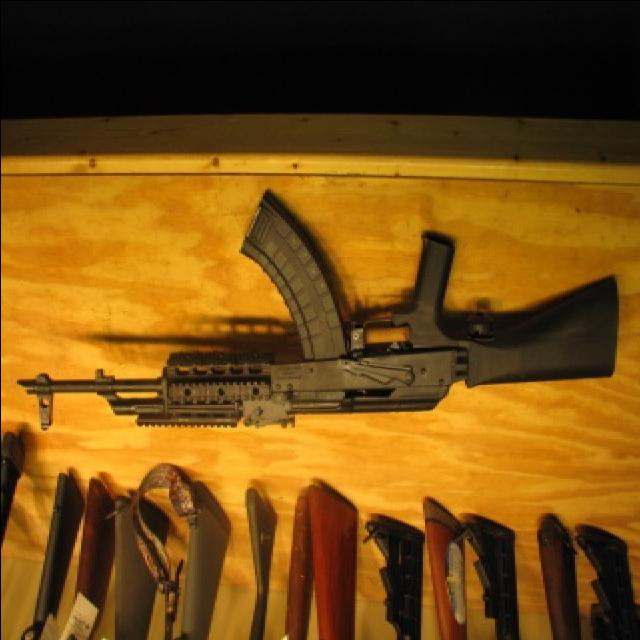rifle: (17, 192, 637, 447)
